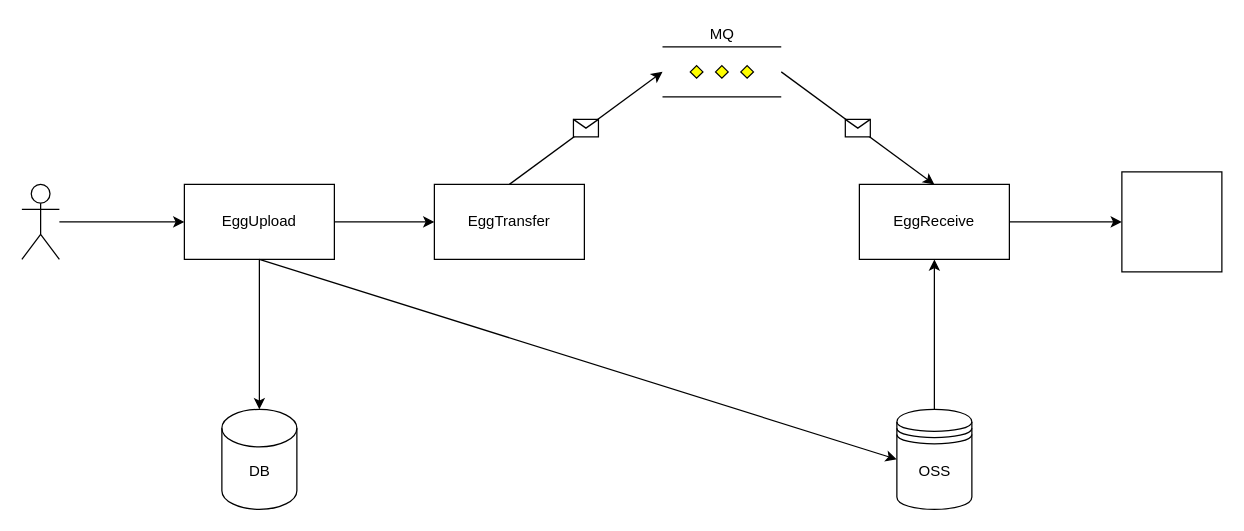
Image size: 1244x531. Some labels were removed from this diagram. The shapes that lost their labels are listed below. From the top down, each one's box as (x1, y1, x2, y2) in pixels, then its label:
(21, 183, 59, 259): Actor
(1121, 171, 1222, 272): CC
